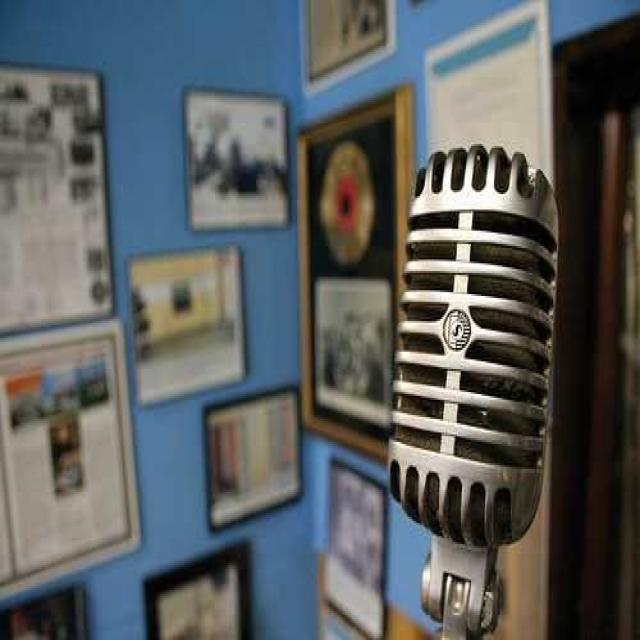microphone: (380, 135, 560, 553)
